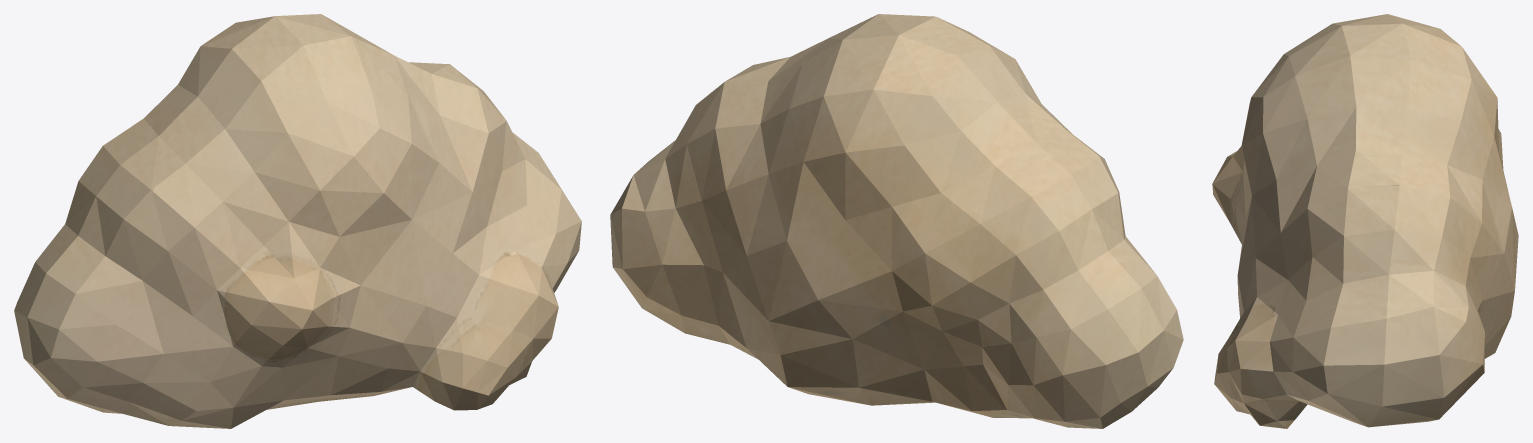
File: Cloud_002.fbx
3 views of the same model, side by side, from view 1: azimuth 30°, elevation 25°; view 2: azimuth 150°, elevation 25°; view 3: azimuth 270°, elevation 25° (orthographic). The views are drawn at different scales.
Visible parts, largest first — view 1: Cloud.002; view 2: Cloud.002; view 3: Cloud.002.
Boxes of the visible parts, box(x1,y1,x2,y2) form: Cloud.002: box(14, 14, 581, 428); Cloud.002: box(610, 14, 1183, 428); Cloud.002: box(1212, 14, 1518, 428).
Bounding box in the file's own units: 98.26 × 63.86 × 52.67.
